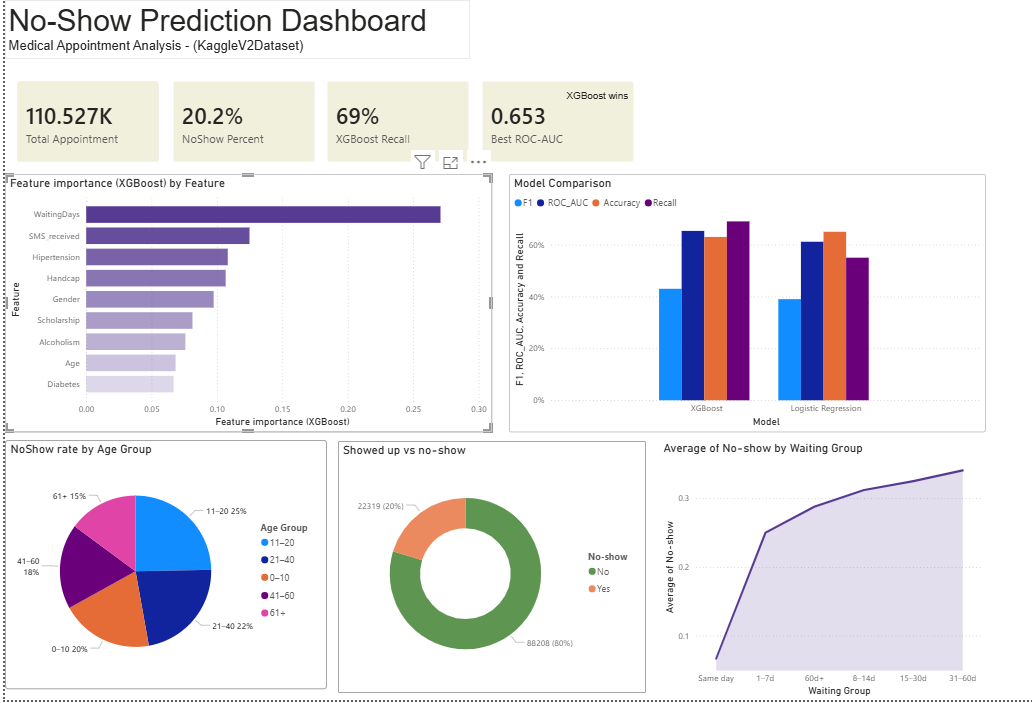

The page's visual inventory and layout, read from the dashboard file:
{"tool":"powerbi","page":{"name":"Page 1","canvas":[1500,1000],"ordinal":0},"visuals":[{"type":"clusteredBarChart","fields":{"Category":["feature_importance.Feature"],"Y":["Avg(feature_importance.Importance)"]},"box":[0,248.6,695.7,368.6],"z":0},{"type":"textbox","box":[0,0,663.8,85],"z":1000},{"type":"cardVisual","fields":{"Data":["KaggleV2-May-2016.Total Appointment"]},"box":[0,98.4,237.5,150],"z":2000},{"type":"cardVisual","fields":{"Data":["eda_data.NoShow Percent"]},"box":[222.5,98.4,237.5,150],"z":3000},{"type":"cardVisual","fields":{"Data":["model_metrics.Recall %"]},"box":[442.5,98.4,237.5,150],"z":4000},{"type":"cardVisual","fields":{"Data":["model_metrics.Best ROC-AUC"]},"box":[663.8,98.4,251.2,150],"z":5000},{"type":"textbox","box":[771.2,122.5,123.8,31.2],"z":6000},{"type":"donutChart","title":"Showed up vs no-show","fields":{"Category":["KaggleV2-May-2016.No-show"],"Y":["KaggleV2-May-2016.Total Appointment"]},"box":[475.7,630,440,360],"z":7000},{"type":"pieChart","title":"NoShow rate by Age Group","fields":{"Y":["eda_data.NoShow Percent"],"Category":["eda_data.Age Group"]},"box":[0,628,460,356],"z":8000},{"type":"clusteredColumnChart","title":"Model Comparison","fields":{"Category":["model_metrics.Model"],"Y":["Sum(model_metrics.F1_Score_NoShow)","Sum(model_metrics.ROC_AUC)","Sum(model_metrics.Accuracy)","Sum(model_metrics.Recall_NoShow)"]},"box":[720,248.6,681.4,368.6],"z":9000},{"type":"lineChart","fields":{"Y":["Avg(eda_data.No-show)"],"Category":["eda_data.Waiting Group"]},"box":[935.7,630,465.7,370],"z":10000}]}

Visuals, with their boxes in screenshot pixels (x1, y1, x2, y2), scaled from the page's 1500x1000 canvas onto the 1032x703 screenshot:
clusteredBarChart - feature_importance.Feature x Avg(feature_importance.Importance): BBox(0, 175, 479, 434)
textbox: BBox(0, 0, 457, 60)
cardVisual - KaggleV2-May-2016.Total Appointment: BBox(0, 69, 163, 175)
cardVisual - eda_data.NoShow Percent: BBox(153, 69, 316, 175)
cardVisual - model_metrics.Recall %: BBox(304, 69, 468, 175)
cardVisual - model_metrics.Best ROC-AUC: BBox(457, 69, 630, 175)
textbox: BBox(531, 86, 616, 108)
"Showed up vs no-show" donutChart: BBox(327, 443, 630, 696)
"NoShow rate by Age Group" pieChart: BBox(0, 441, 316, 692)
"Model Comparison" clusteredColumnChart: BBox(495, 175, 964, 434)
lineChart - Avg(eda_data.No-show) x eda_data.Waiting Group: BBox(644, 443, 964, 702)
